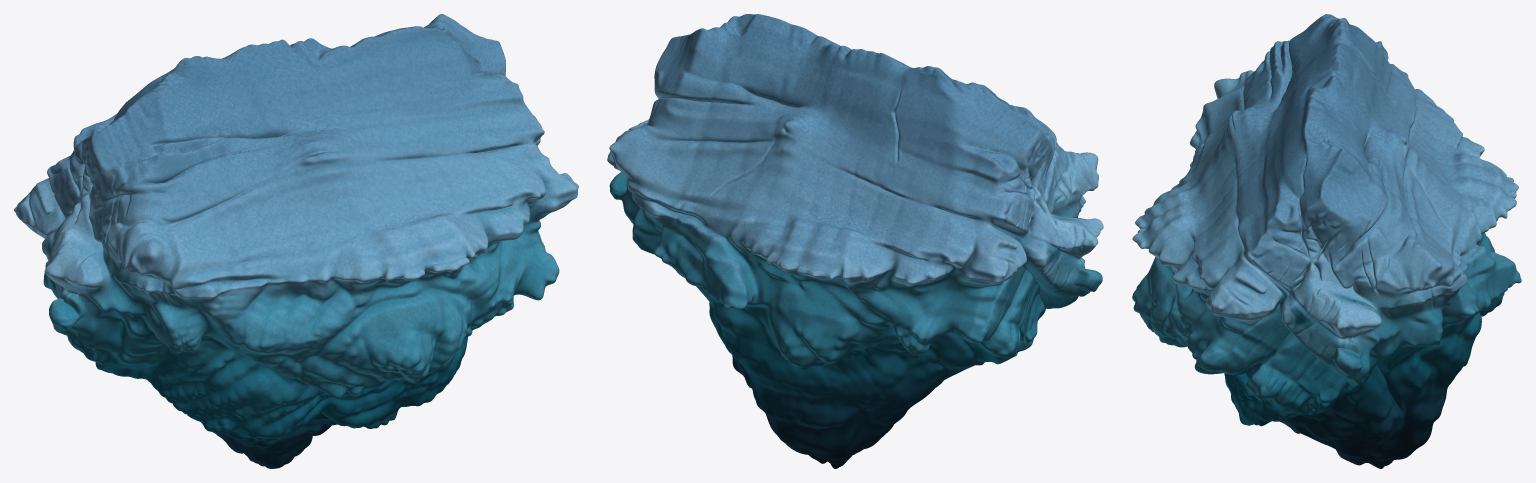
Rendered from iceberg.glb.
3 renders of one model, left to right at view 1: azimuth 30°, elevation 25°; view 2: azimuth 150°, elevation 25°; view 3: azimuth 270°, elevation 25°, orthographic. The views are drawn at different scales.
Size of the model in its own units: 1.9 by 1.58 by 1.37.
Materials: 1 (1 with a texture image).
